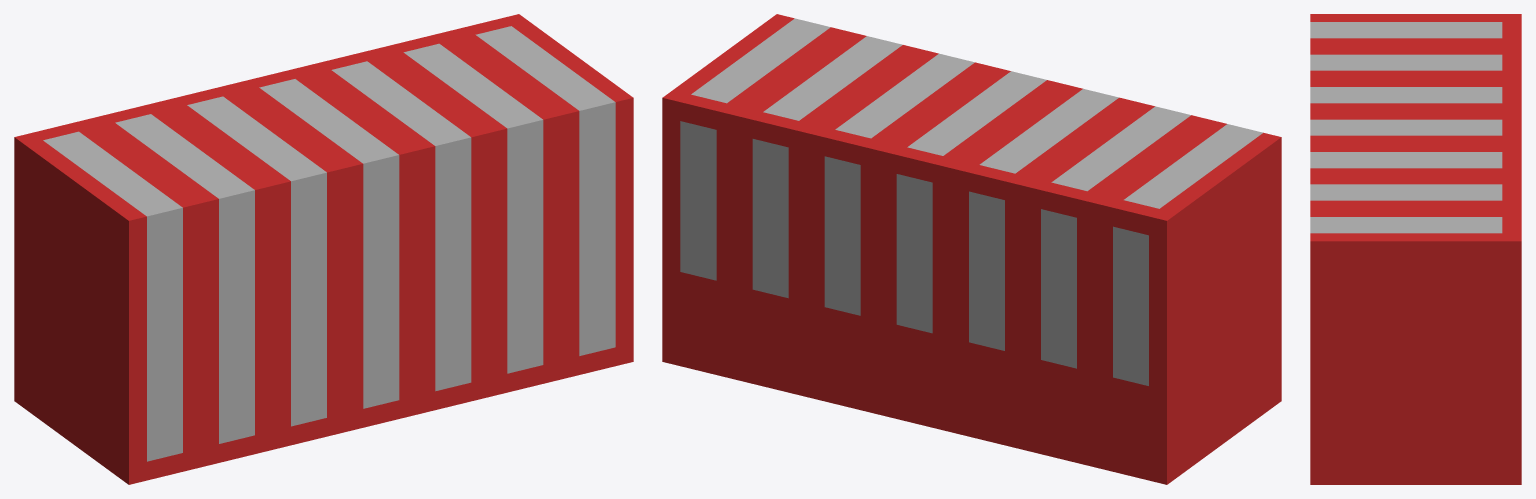
The model's file is files_box_04.dae.
The picture shows the model from 3 angles, left to right: view 1: azimuth 30°, elevation 25°; view 2: azimuth 150°, elevation 25°; view 3: azimuth 270°, elevation 25°; orthographic projection. The views are drawn at different scales.
Parts seen in each view (by area): view 1: Untitled; view 2: Untitled; view 3: Untitled.
Part boxes in pixels (x1,y1,x2,y2): Untitled: [14, 14, 633, 484]; Untitled: [662, 14, 1281, 484]; Untitled: [1310, 14, 1521, 484].
Bounding box in the file's own units: 0.84 × 0.33 × 0.42.
1 material, 1 textured.
